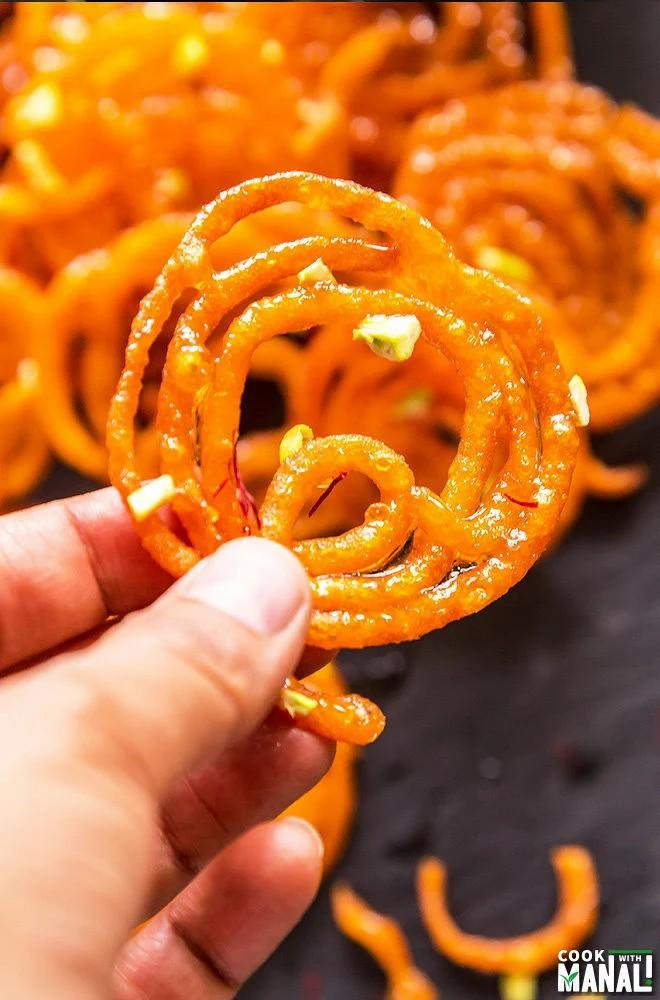Jalebi: (113, 166, 566, 763)
